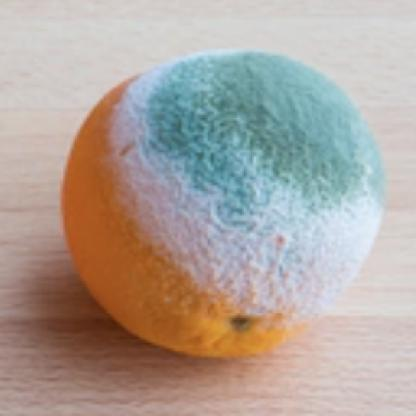rotten: (66, 51, 385, 365)
